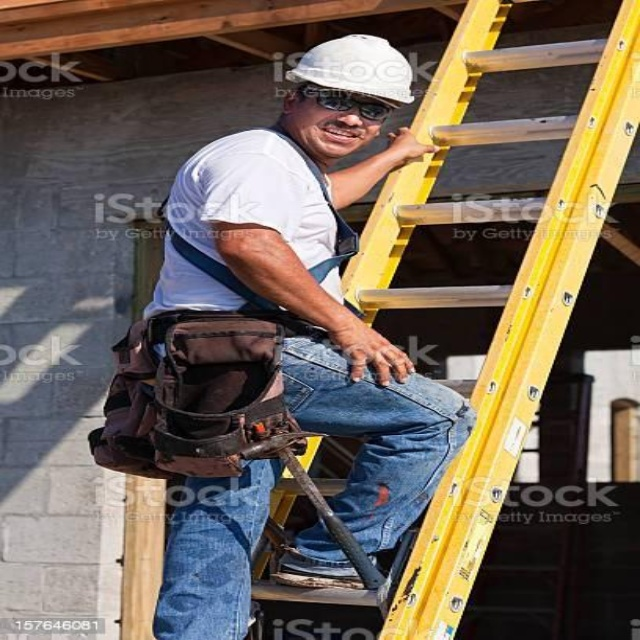Arnes_seguridad: (115, 115, 365, 344)
